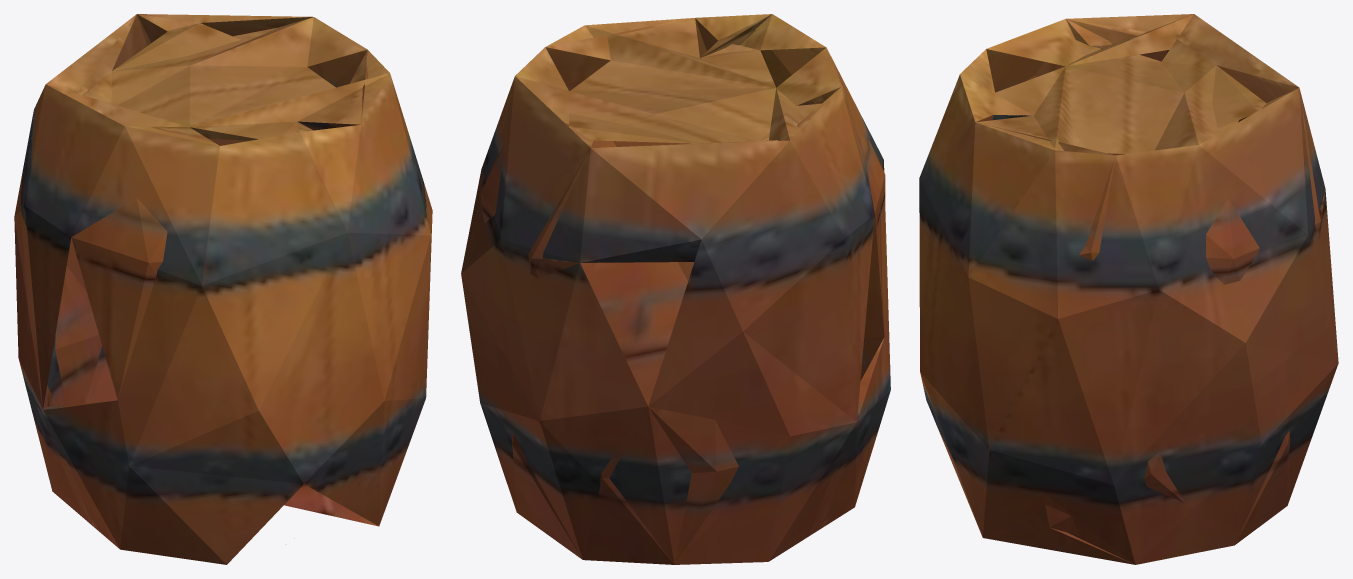
File: barrel.glb
3 views of the same model, side by side, from view 1: azimuth 30°, elevation 25°; view 2: azimuth 150°, elevation 25°; view 3: azimuth 270°, elevation 25° (orthographic).
Visible parts, largest first — view 1: barrel; view 2: barrel; view 3: barrel.
Boxes of the visible parts, bbox=[...] form: barrel: bbox=[14, 14, 432, 564]; barrel: bbox=[461, 14, 890, 564]; barrel: bbox=[919, 14, 1338, 564].
Bounding box in the file's own units: 0.901 × 1.01 × 0.915.
1 material, 1 textured.
